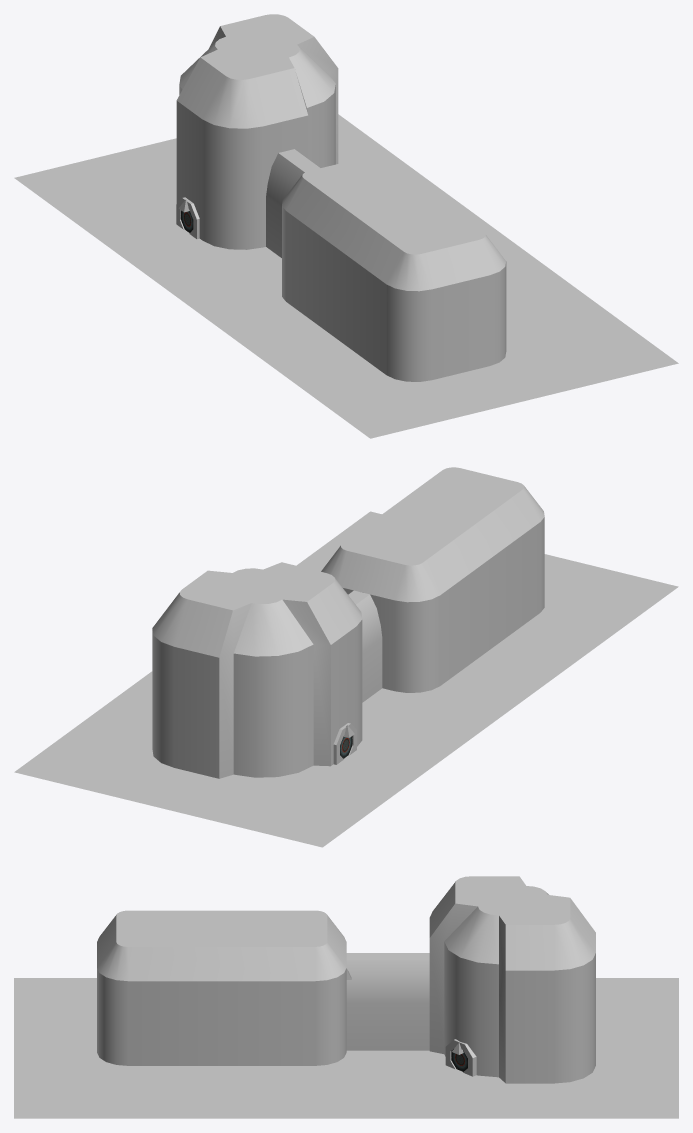
The model's file is ibtrain00.FBX.
3 views of the same model, one above another, from view 1: azimuth 30°, elevation 25°; view 2: azimuth 150°, elevation 25°; view 3: azimuth 270°, elevation 25° (orthographic). The views are drawn at different scales.
Visible parts, largest first — view 1: train, terrain; view 2: train, terrain; view 3: train, terrain.
Boxes of the visible parts, x1,y1,x2,y2 form: train: [176, 14, 506, 381]; terrain: [14, 114, 678, 438]; train: [152, 467, 544, 778]; terrain: [14, 511, 678, 847]; train: [97, 876, 595, 1083]; terrain: [14, 978, 678, 1118].
Size of the model in its own units: 32 by 15.84 by 64.
